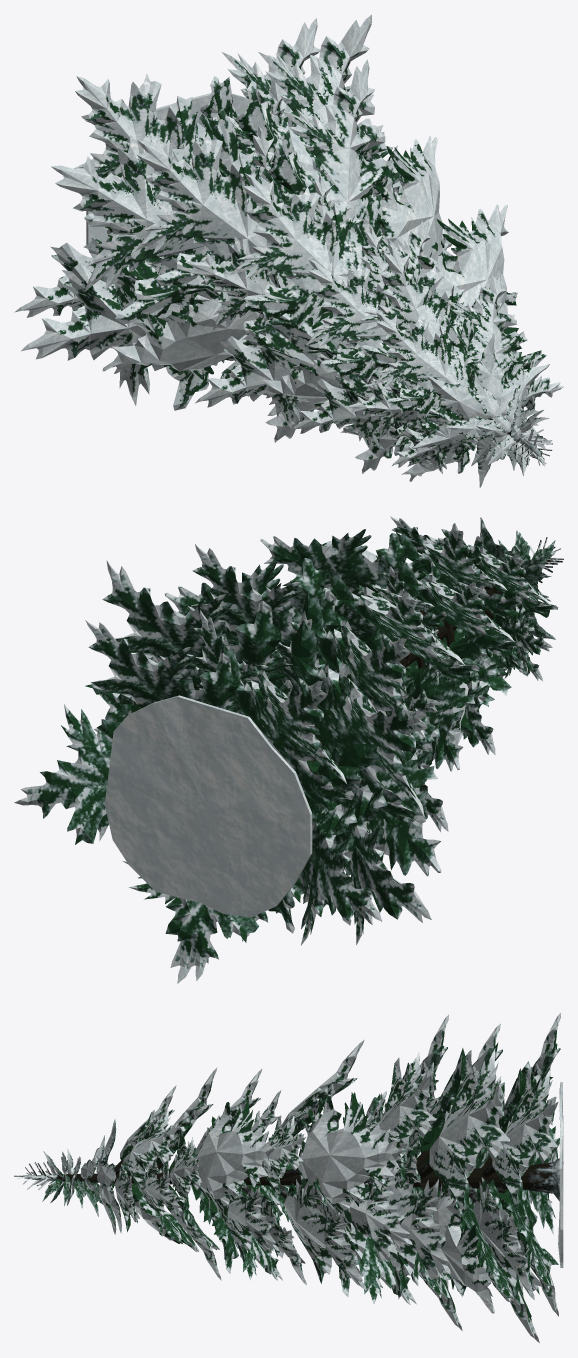
File: tree.obj
3 renders of one model, top to bottom at view 1: azimuth 30°, elevation 25°; view 2: azimuth 150°, elevation 25°; view 3: azimuth 270°, elevation 25°, orthographic. The views are drawn at different scales.
Visible parts, largest first — view 1: Object.1, Object.2; view 2: Object.1; view 3: Object.1.
Boxes of the visible parts, left/top/right/bottom form: Object.1: left=14, top=14, right=563, bottom=487; Object.2: left=411, top=420, right=466, bottom=449; Object.1: left=14, top=516, right=563, bottom=983; Object.1: left=14, top=1013, right=563, bottom=1342.
Bounding box in the file's own units: 0.3393 × 0.3019 × 0.512.
1 material, 1 textured.
